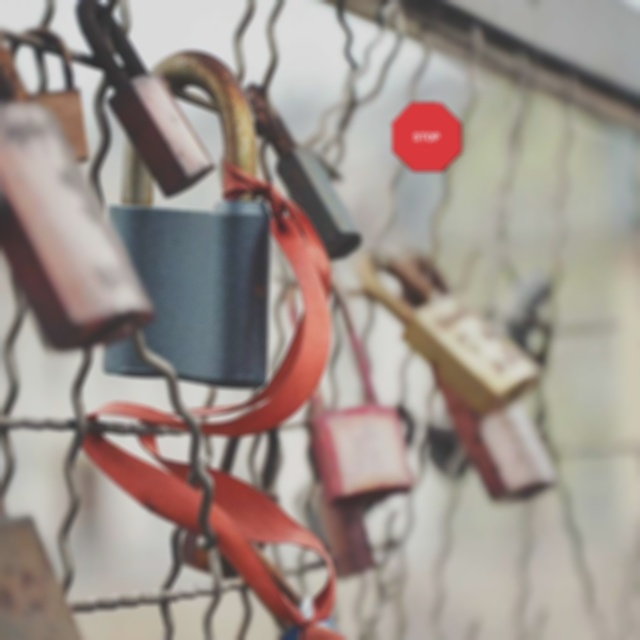STOP: (391, 102, 462, 172)
